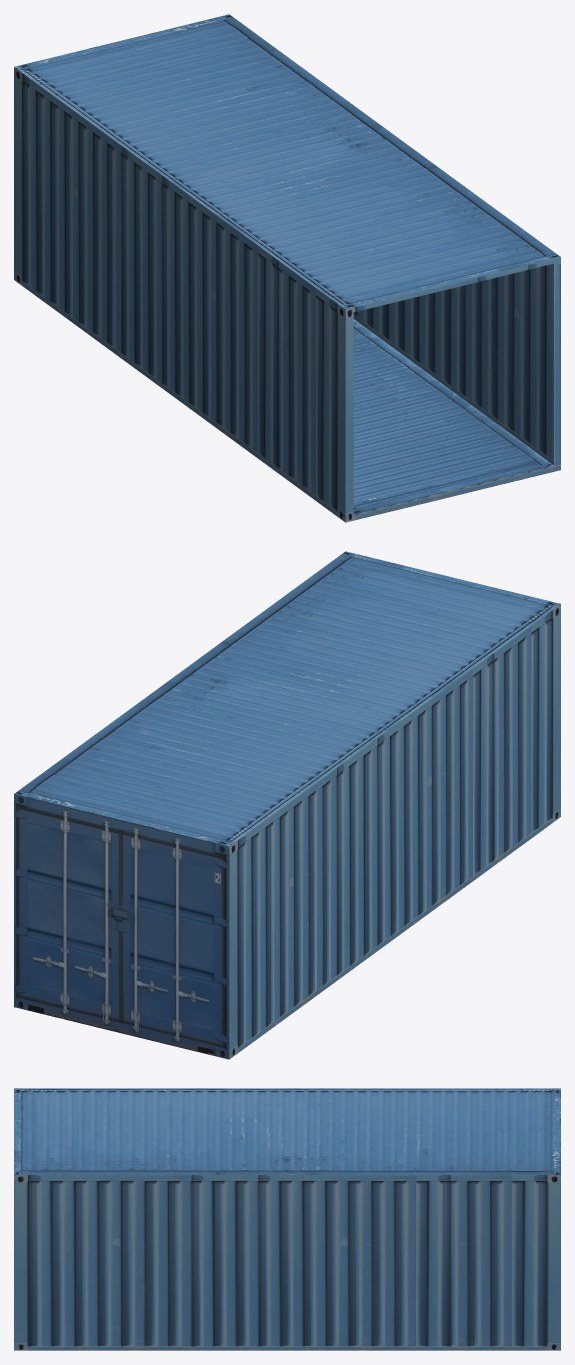
The model's file is Containerbigin.glb.
3 renders of one model, top to bottom at view 1: azimuth 30°, elevation 25°; view 2: azimuth 150°, elevation 25°; view 3: azimuth 270°, elevation 25°, orthographic. The views are drawn at different scales.
Parts seen in each view (by area): view 1: Containerbigin; view 2: Containerbigin; view 3: Containerbigin.
Boxes of the visible parts, left/top/right/bottom form: Containerbigin: left=14, top=14, right=560, bottom=522; Containerbigin: left=14, top=551, right=560, bottom=1059; Containerbigin: left=14, top=1088, right=560, bottom=1350.
Size of the model in its own units: 3.07 by 2.9 by 8.18.
1 material, 1 textured.
